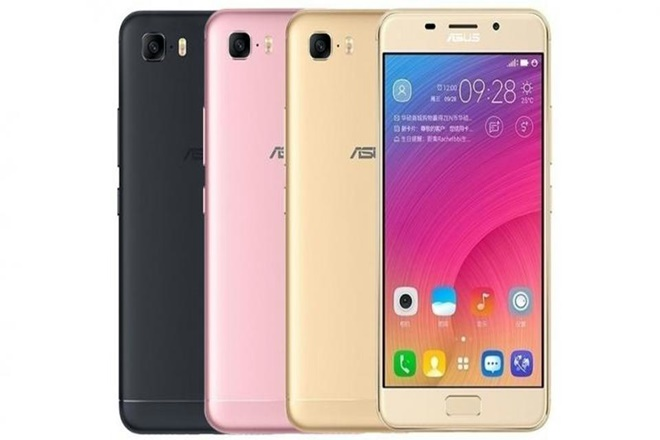mobile: (353, 4, 555, 430)
